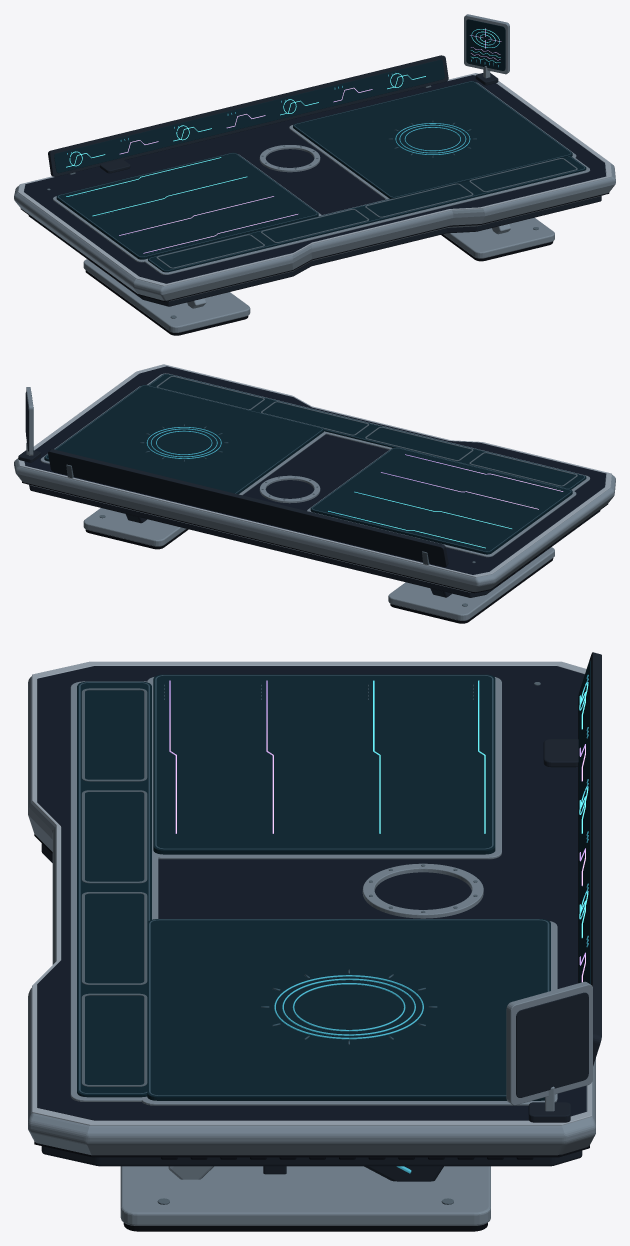
File: console.glb
3 renders of one model, top to bottom at view 1: azimuth 30°, elevation 25°; view 2: azimuth 150°, elevation 25°; view 3: azimuth 270°, elevation 25°, orthographic. The views are drawn at different scales.
Visible parts, largest first — view 1: LC142_HW_Maze_optical_bed, LC142_HW_Continuous_optical_deck, LC142_HW_Destination_optical_bed, LC142_HW_Sculpted_titanium_perimeter, LC142_HW_Rear_optical_insert, LC142_HW_Service_optical_bed, LC142_HW_Rear_instrument_spine, LC142_HW_Foot_titanium_-1, LC142_HW_Recessed_lower_chassis, LC142_HW_Flush_machined_outer_rail, LC142_HW_Foot_titanium_1, LC142_HW_Portrait_screen_optical_face (+10 smaller); view 2: LC142_HW_Maze_optical_bed, LC142_HW_Destination_optical_bed, LC142_HW_Continuous_optical_deck, LC142_HW_Sculpted_titanium_perimeter, LC142_HW_Rear_instrument_spine, LC142_HW_Service_optical_bed, LC142_HW_Flush_machined_outer_rail, LC142_HW_Foot_titanium_-1, LC142_HW_Recessed_lower_chassis, LC142_HW_Foot_titanium_1, LC142_HW_Lower_shadow_reveal, LC142_HW_Service_inset_frame (+9 smaller); view 3: LC142_HW_Maze_optical_bed, LC142_HW_Continuous_optical_deck, LC142_HW_Destination_optical_bed, LC142_HW_Service_optical_bed, LC142_HW_Foot_titanium_1, LC142_HW_Sculpted_titanium_perimeter, LC142_HW_Flush_machined_outer_rail, LC142_HW_Portrait_screen_backplate, LC142_HW_Recessed_lower_chassis, LC142_HW_Rear_instrument_spine, LC142_HW_Service_inset_frame, LC142_HW_Destination_inset_frame (+16 smaller).
Part boxes in pixels (<box>): LC142_HW_Maze_optical_bed: <box>293,81,572,198</box>; LC142_HW_Continuous_optical_deck: <box>24,75,605,283</box>; LC142_HW_Destination_optical_bed: <box>56,152,318,259</box>; LC142_HW_Sculpted_titanium_perimeter: <box>14,160,615,301</box>; LC142_HW_Rear_optical_insert: <box>54,59,444,173</box>; LC142_HW_Service_optical_bed: <box>148,156,586,272</box>; LC142_HW_Rear_instrument_spine: <box>48,55,448,176</box>; LC142_HW_Foot_titanium_-1: <box>83,259,250,332</box>; LC142_HW_Recessed_lower_chassis: <box>29,196,601,306</box>; LC142_HW_Flush_machined_outer_rail: <box>18,73,611,286</box>; LC142_HW_Foot_titanium_1: <box>443,217,554,258</box>; LC142_HW_Portrait_screen_optical_face: <box>466,19,505,70</box>; LC142_HW_Maze_optical_bed: <box>44,385,323,494</box>; LC142_HW_Destination_optical_bed: <box>310,447,572,554</box>; LC142_HW_Continuous_optical_deck: <box>24,366,605,574</box>; LC142_HW_Sculpted_titanium_perimeter: <box>14,384,615,592</box>; LC142_HW_Rear_instrument_spine: <box>48,449,448,567</box>; LC142_HW_Service_optical_bed: <box>148,374,586,489</box>; LC142_HW_Flush_machined_outer_rail: <box>18,364,611,577</box>; LC142_HW_Foot_titanium_-1: <box>388,547,554,620</box>; LC142_HW_Recessed_lower_chassis: <box>29,485,600,597</box>; LC142_HW_Foot_titanium_1: <box>83,508,186,546</box>; LC142_HW_Lower_shadow_reveal: <box>22,481,607,593</box>; LC142_HW_Service_inset_frame: <box>147,373,590,491</box>; LC142_HW_Maze_optical_bed: <box>147,919,550,1100</box>; LC142_HW_Continuous_optical_deck: <box>37,666,586,1120</box>; LC142_HW_Destination_optical_bed: <box>153,674,495,854</box>; LC142_HW_Service_optical_bed: <box>77,681,151,1097</box>; LC142_HW_Foot_titanium_1: <box>120,1166,490,1225</box>; LC142_HW_Sculpted_titanium_perimeter: <box>28,676,595,1155</box>; LC142_HW_Flush_machined_outer_rail: <box>32,661,591,1125</box>; LC142_HW_Portrait_screen_backplate: <box>516,992,588,1097</box>; LC142_HW_Recessed_lower_chassis: <box>41,843,582,1166</box>; LC142_HW_Rear_instrument_spine: <box>578,652,601,1065</box>; LC142_HW_Service_inset_frame: <box>70,681,158,1101</box>; LC142_HW_Destination_inset_frame: <box>147,677,501,859</box>.
Bounding box in the file's own units: 18.04 × 4.92 × 9.29.
